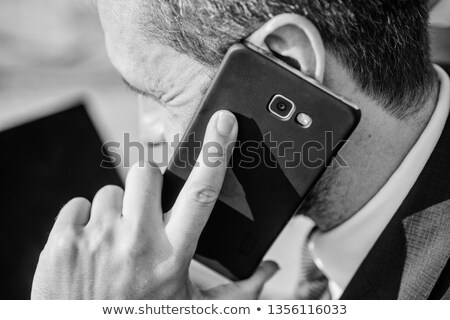phone: (157, 38, 360, 272)
